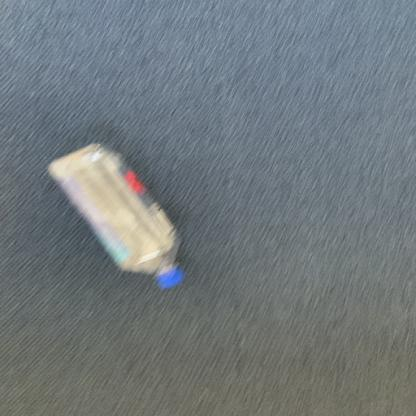trash: (41, 143, 196, 288)
